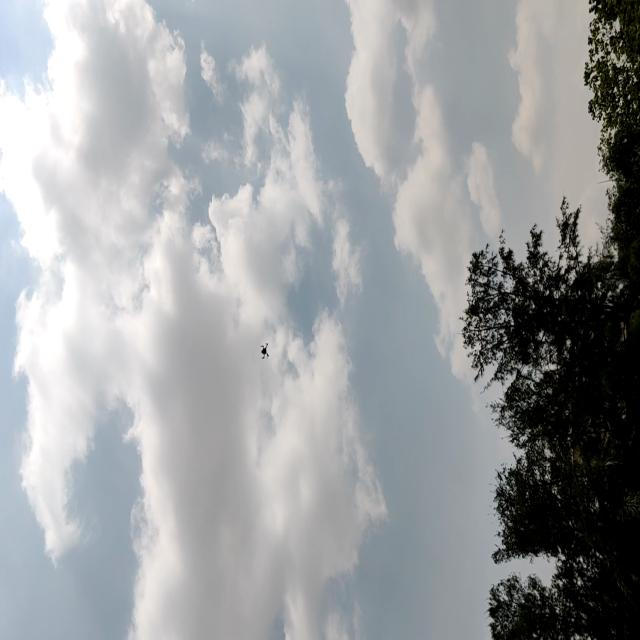drone: (256, 338, 274, 366)
